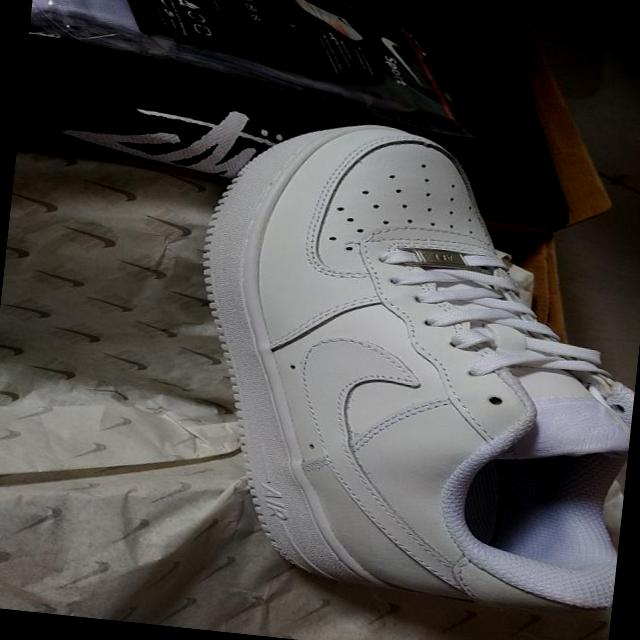nike_fake_airforce: (165, 108, 640, 615)
